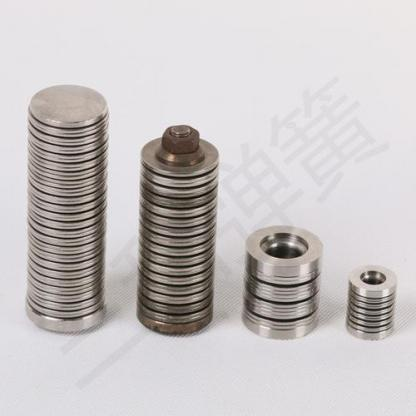FOD: (342, 263, 398, 343)
